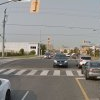crosswalk: (0, 68, 82, 76)
